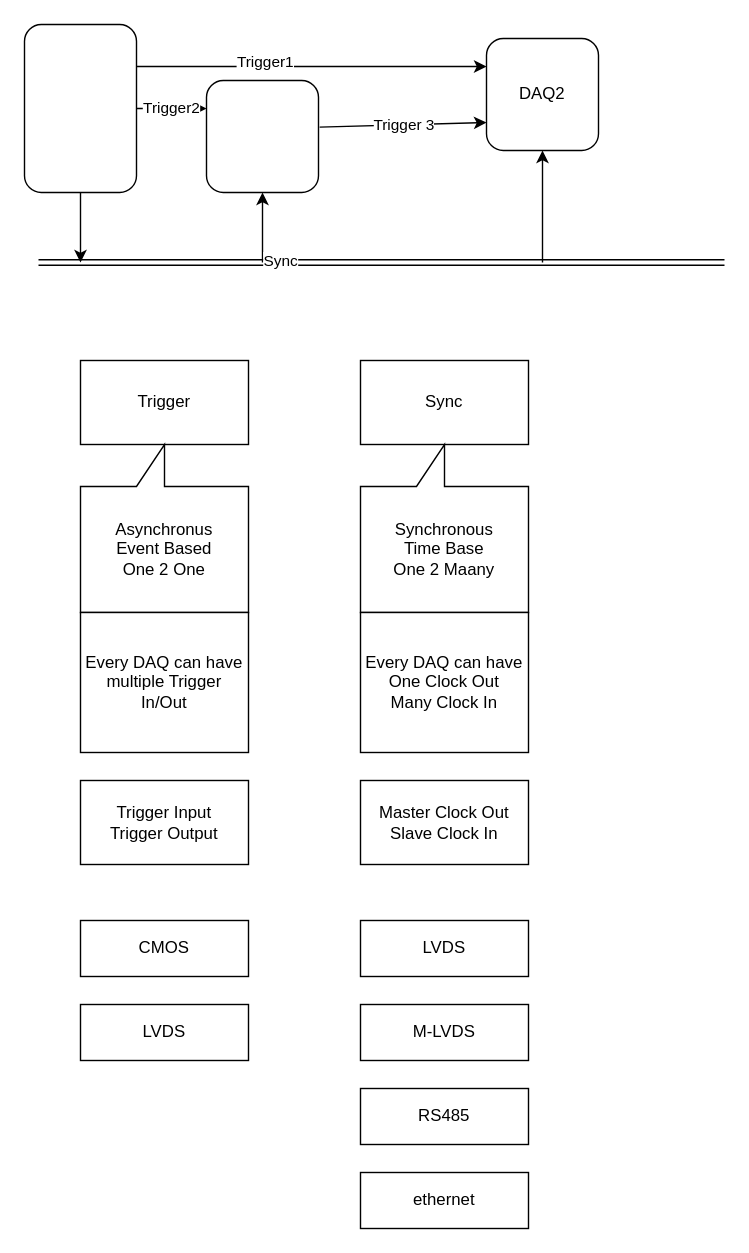
Some shapes in this 749 by 1253 pixel diagram are drawn without their labels. The shapes that lost their labels are listed below. From the top down, each one's centre as x and y in pixels, then its label:
the point at 79,107: DAQ1
the point at 261,135: DAQ3
